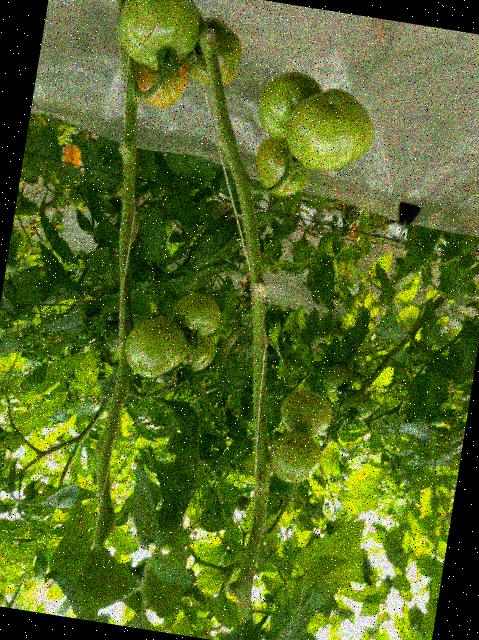b_green: (280, 81, 380, 178), (113, 0, 204, 77), (255, 66, 326, 144), (180, 11, 247, 91), (121, 310, 192, 382), (249, 132, 315, 200), (264, 425, 326, 487), (277, 385, 336, 440), (167, 289, 225, 339), (176, 328, 217, 374), (319, 360, 357, 397), (340, 388, 375, 422), (101, 320, 123, 350), (350, 350, 368, 366)
b_half_ripened: (128, 53, 192, 111)
